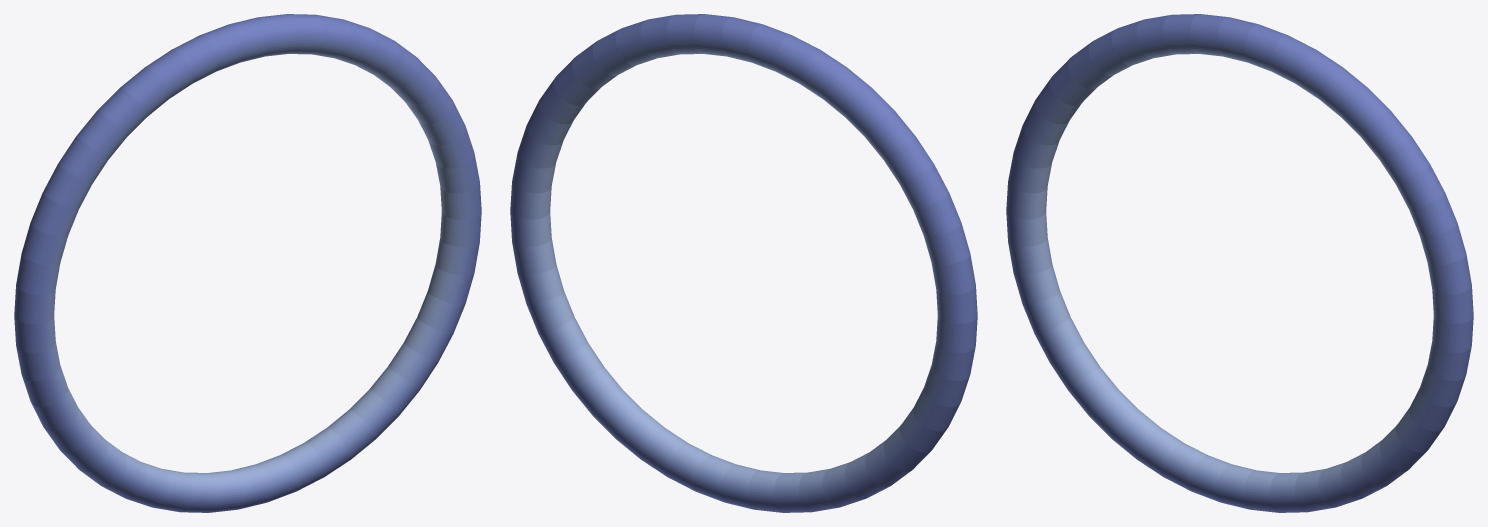
The picture shows the model from 3 angles, left to right: view 1: azimuth 30°, elevation 25°; view 2: azimuth 150°, elevation 25°; view 3: azimuth 330°, elevation 25°; orthographic projection.
Parts seen in each view (by area): view 1: world; view 2: world; view 3: world.
Boxes of the visible parts, x1=… form: world: x1=14, y1=14, x2=481, y2=512; world: x1=510, y1=14, x2=977, y2=512; world: x1=1006, y1=14, x2=1473, y2=512.
Size of the model in its own units: 30.27 by 30.21 by 2.26.
